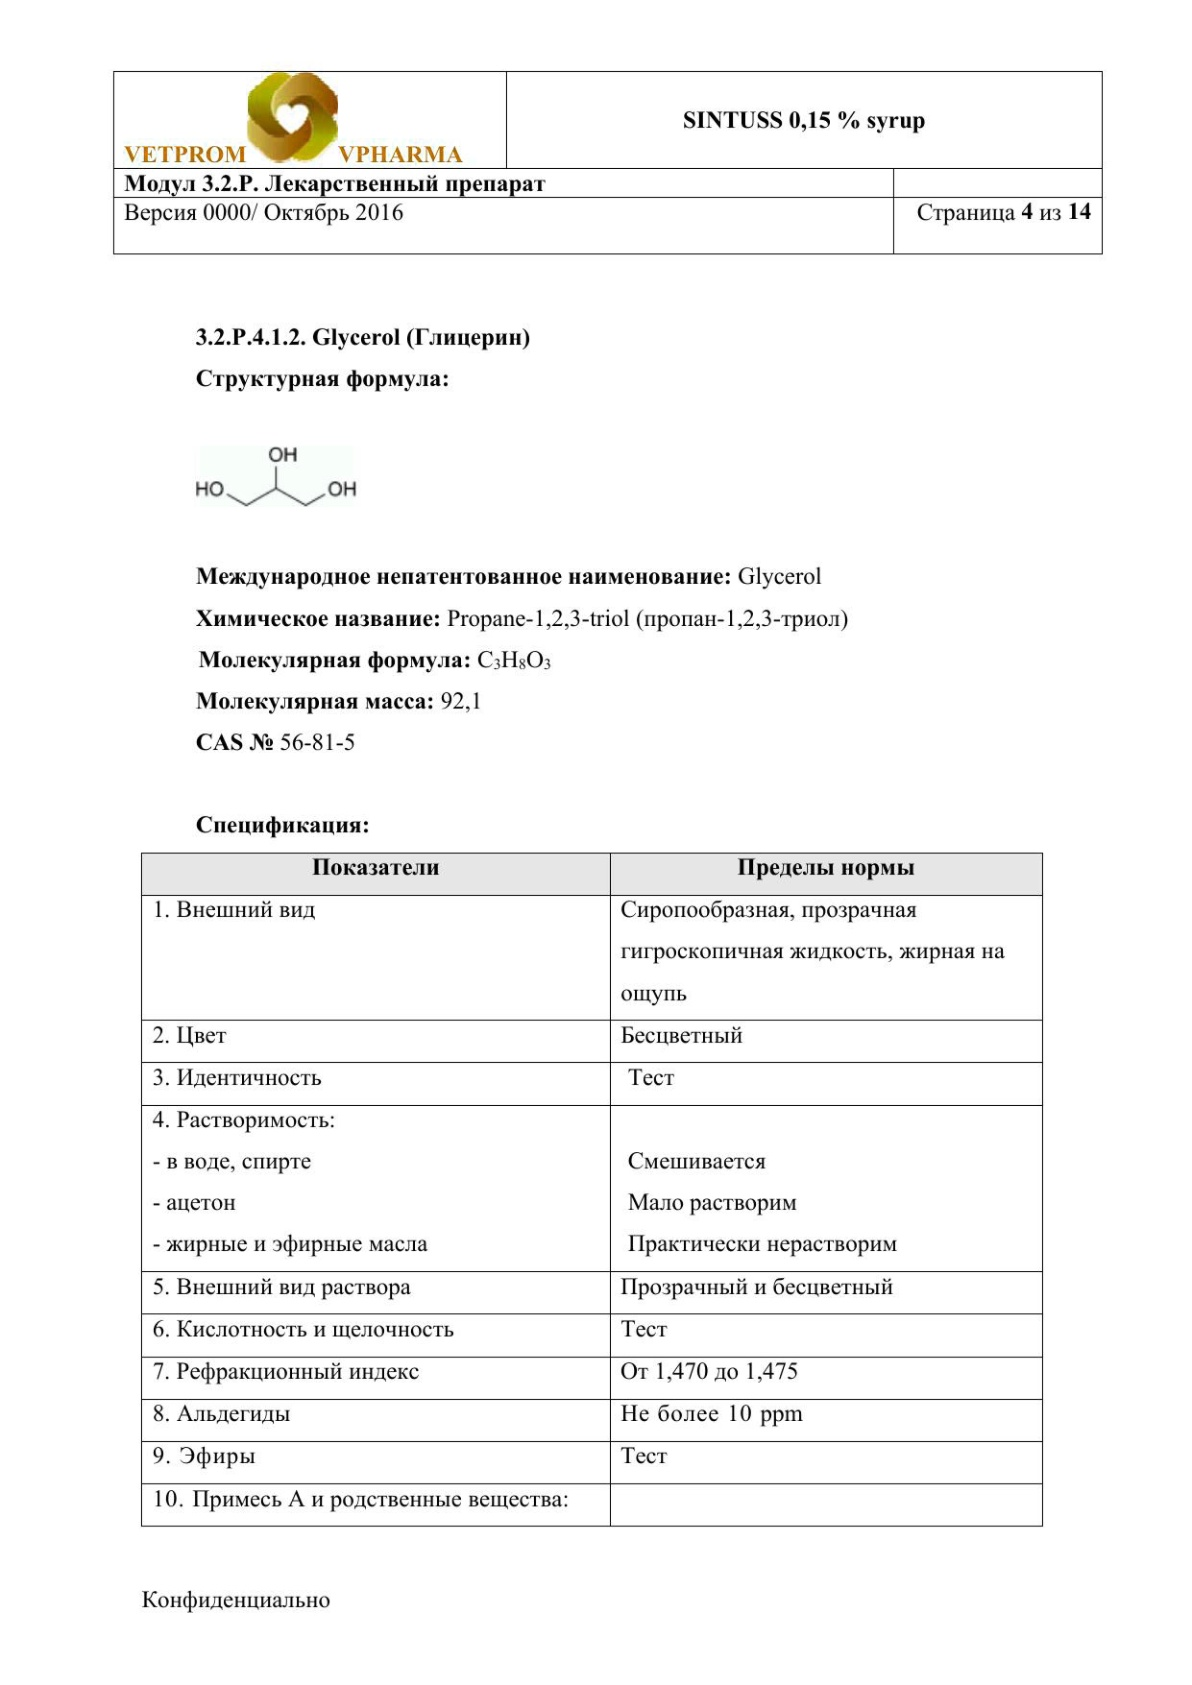full_lined: (141, 852, 1042, 1528)
merged_cells: (112, 70, 1104, 255)
